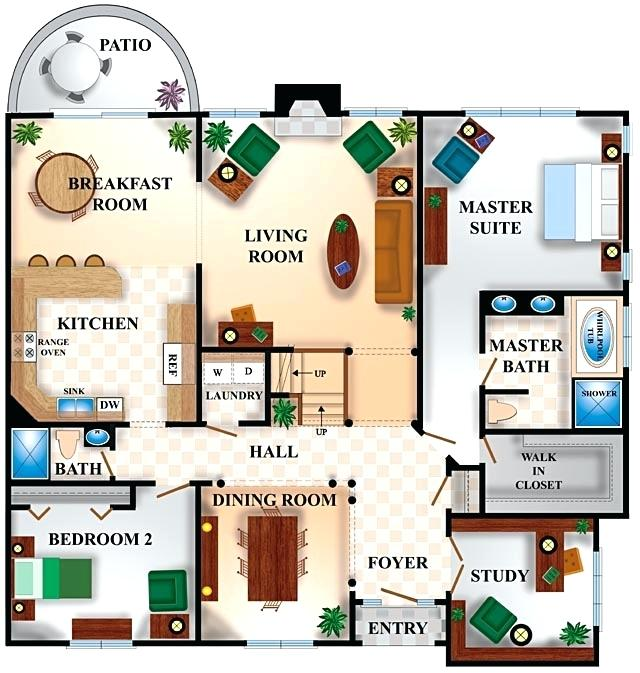room: (5, 113, 202, 427), (195, 113, 421, 352), (417, 112, 628, 296), (4, 481, 201, 648), (193, 479, 354, 647)
window: (49, 108, 157, 119), (460, 107, 576, 116), (591, 550, 603, 626), (621, 306, 631, 367), (65, 639, 132, 648), (243, 640, 315, 648), (202, 108, 263, 117), (346, 107, 400, 116), (621, 125, 632, 153), (622, 251, 633, 279)
